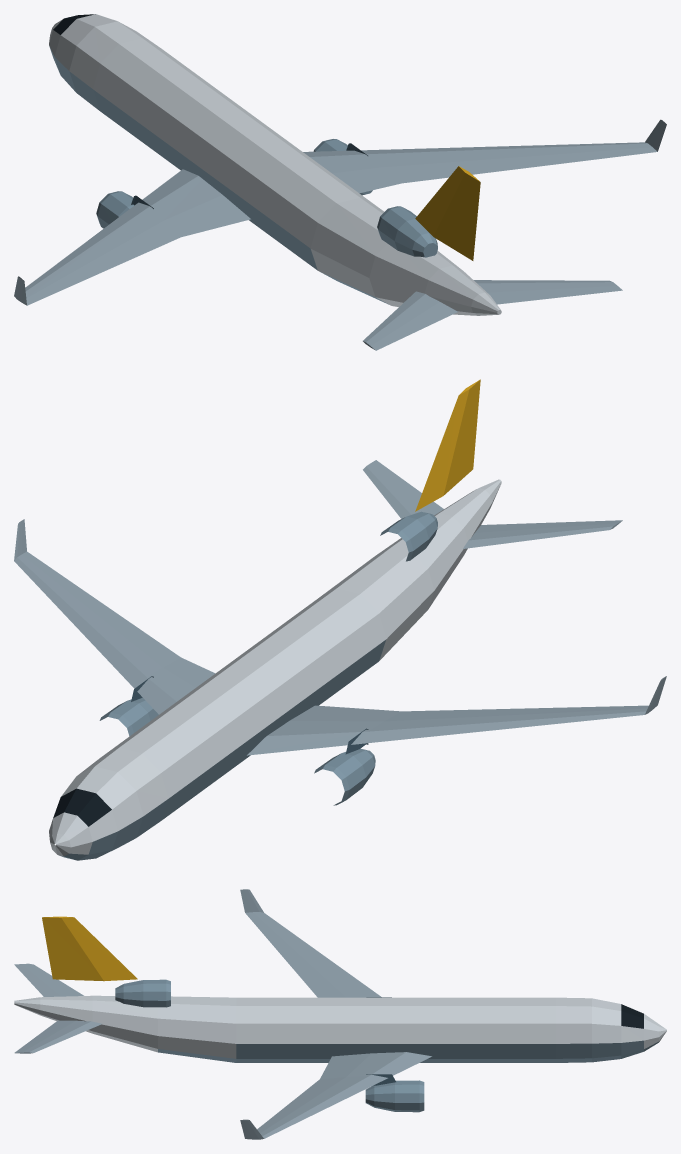
3 views of the same model, one above another, from view 1: azimuth 30°, elevation 25°; view 2: azimuth 150°, elevation 25°; view 3: azimuth 270°, elevation 25° (orthographic). The views are drawn at different scales.
Visible parts, largest first — view 1: lod0; view 2: lod0; view 3: lod0.
Boxes of the visible parts, bbox=[...] form: lod0: bbox=[14, 14, 666, 350]; lod0: bbox=[14, 379, 666, 860]; lod0: bbox=[14, 889, 666, 1139].
Size of what is drawn, in the model's own units: 0.8346 by 0.261 by 1.
